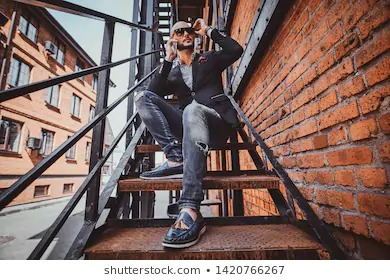C_jeans: (133, 89, 234, 213)
F_M_suit jacket: (147, 26, 247, 129)
